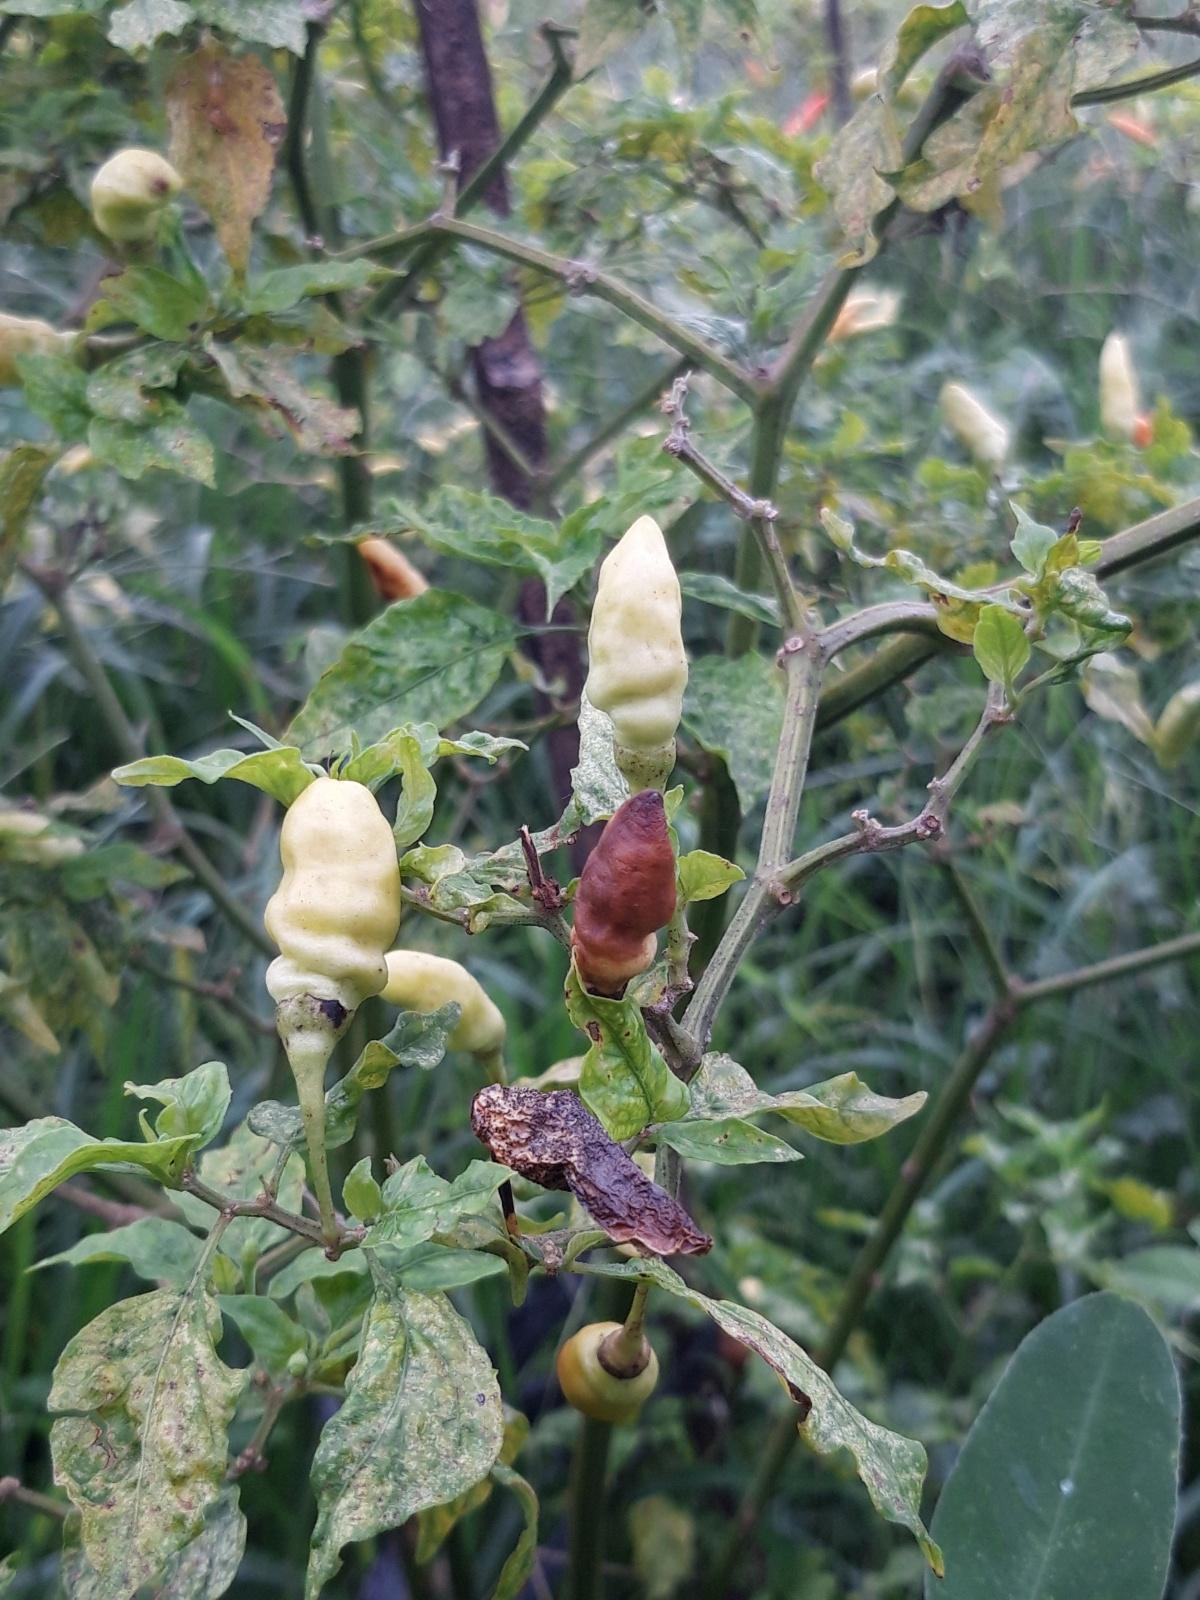antraknosa: (466, 1082, 715, 1265)
cabai_normal: (266, 774, 405, 1007), (586, 515, 689, 756), (379, 947, 512, 1054), (558, 1318, 659, 1421)
lalat_buah: (574, 792, 679, 986)
